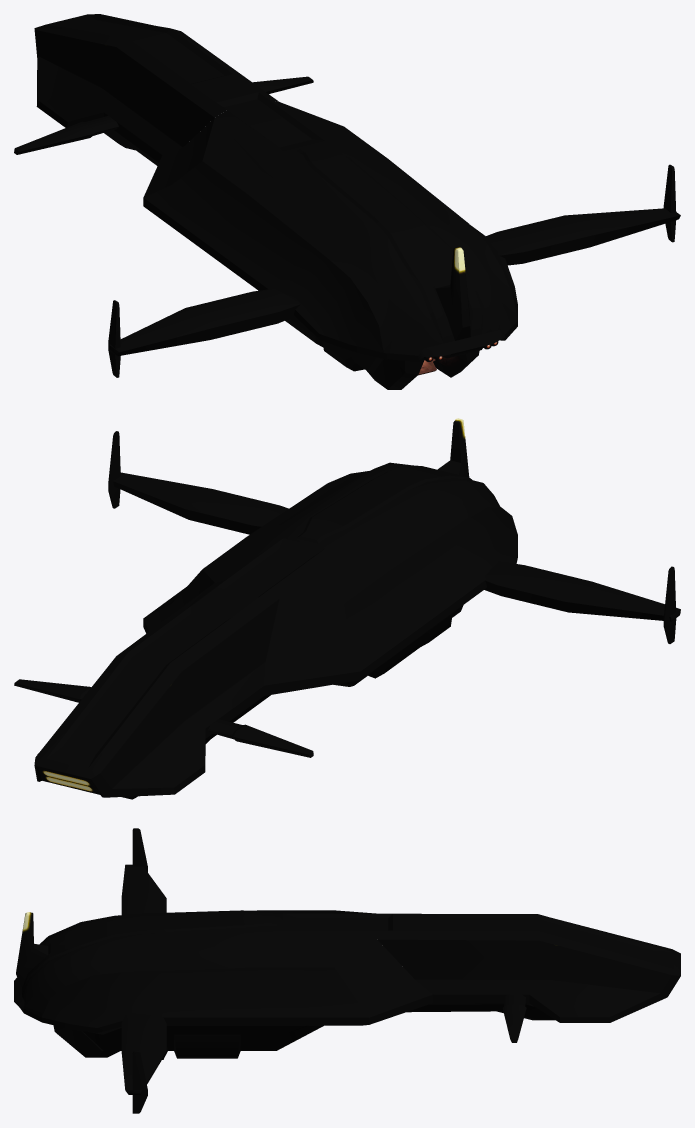
File: MissionSequence_M01_Boss.glb
The picture shows the model from 3 angles, top to bottom: view 1: azimuth 30°, elevation 25°; view 2: azimuth 150°, elevation 25°; view 3: azimuth 270°, elevation 25°; orthographic projection. The views are drawn at different scales.
Parts seen in each view (by area): view 1: kpr_keeper_01_LOD1; view 2: kpr_keeper_01_LOD1; view 3: kpr_keeper_01_LOD1.
Part boxes in pixels (x1=…): kpr_keeper_01_LOD1: x1=14, y1=14, x2=680, y2=389; kpr_keeper_01_LOD1: x1=14, y1=418, x2=680, y2=799; kpr_keeper_01_LOD1: x1=14, y1=828, x2=680, y2=1113.
Size of the model in its own units: 5.43 by 1.47 by 6.74.
1 material, 1 textured.
